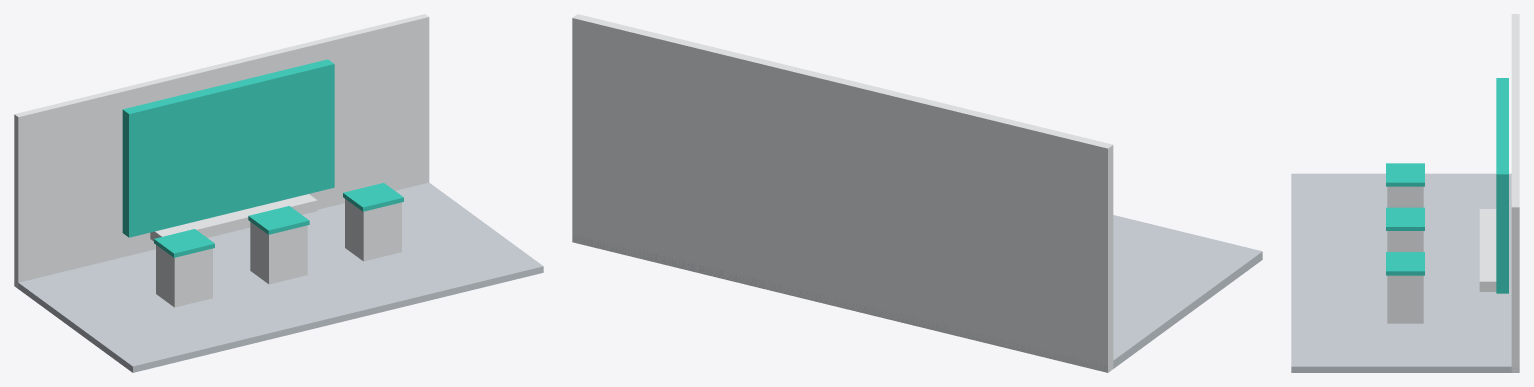
3 views of the same model, side by side, from view 1: azimuth 30°, elevation 25°; view 2: azimuth 150°, elevation 25°; view 3: azimuth 270°, elevation 25° (orthographic). The views are drawn at different scales.
Parts seen in each view (by area): view 1: Exhibition Booth Concept; view 2: Exhibition Booth Concept; view 3: Exhibition Booth Concept.
Part boxes in pixels (x1,y1,x2,y2): Exhibition Booth Concept: [14, 14, 543, 372]; Exhibition Booth Concept: [572, 14, 1262, 372]; Exhibition Booth Concept: [1291, 14, 1519, 372].
Size of the model in its own units: 8 by 3.2 by 4.
